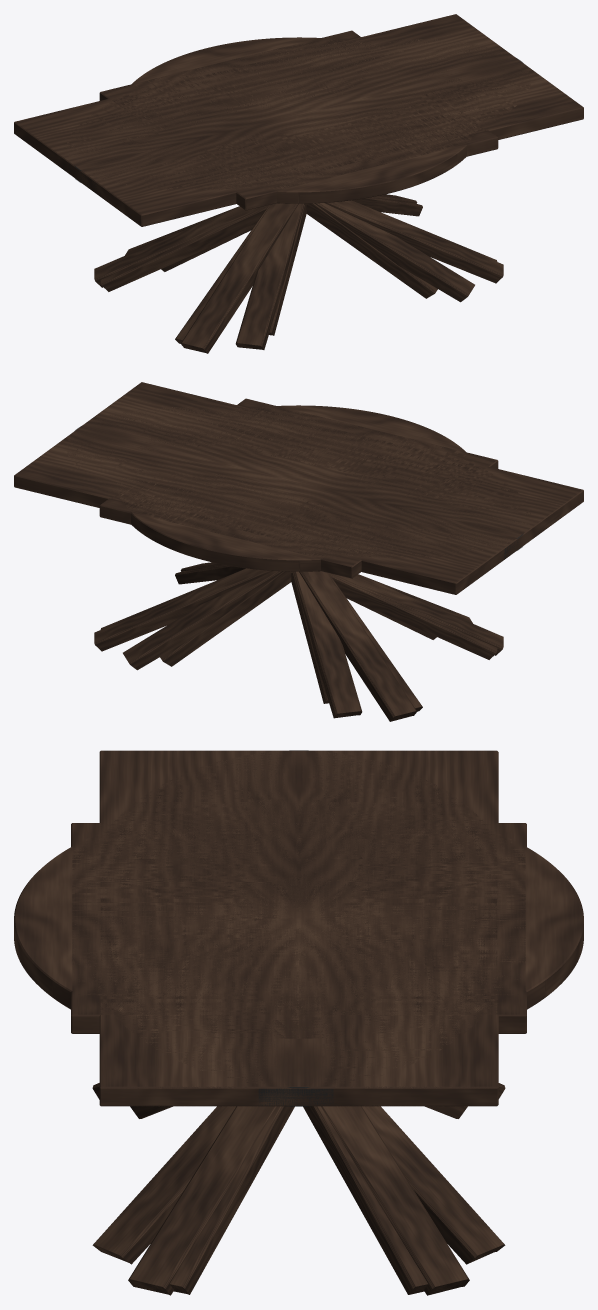
File: walnut-spider-tables.glb
3 renders of one model, top to bottom at view 1: azimuth 30°, elevation 25°; view 2: azimuth 150°, elevation 25°; view 3: azimuth 270°, elevation 25°, orthographic. The views are drawn at different scales.
Visible parts, largest first — view 1: Top_target, Wood_Rectangular_EpoxyFar, Base_Ellipse, Wood_Round, Wood_Round_EpoxyFar, Base_Round, Wood_Ellipse, Wood_Rectangular_EpoxyNear, Wood_Square_EpoxyFar, Wood_Square, Base_target, Wood_Square_EpoxyNear (+4 smaller); view 2: Top_target, Base_Ellipse, Wood_Rectangular_EpoxyNear, Wood_Rectangular_EpoxyFar, Wood_Round, Base_Round, Wood_Round_EpoxyNear, Wood_Ellipse, Wood_Square, Wood_Square_EpoxyNear, Base_target, Wood_Round_EpoxyFar (+4 smaller); view 3: Top_target, Wood_Square, Wood_Round, Wood_Ellipse, Wood_Rectangular_EpoxyNear, Wood_Rectangular_EpoxyFar, Base_Ellipse, Base_Round, Wood_Round_EpoxyNear, Wood_Round_EpoxyFar, Base_target, Wood_Square_EpoxyFar (+4 smaller).
Part boxes in pixels (left/top/right/bottom): Top_target: left=14, top=14, right=583, bottom=226; Wood_Rectangular_EpoxyFar: left=97, top=71, right=583, bottom=226; Base_Ellipse: left=94, top=194, right=503, bottom=353; Wood_Round: left=118, top=37, right=480, bottom=202; Wood_Round_EpoxyFar: left=165, top=85, right=480, bottom=203; Base_Round: left=125, top=203, right=474, bottom=349; Wood_Ellipse: left=66, top=38, right=530, bottom=189; Wood_Rectangular_EpoxyNear: left=14, top=14, right=505, bottom=163; Wood_Square_EpoxyFar: left=194, top=90, right=497, bottom=210; Wood_Square: left=99, top=30, right=498, bottom=210; Base_target: left=100, top=197, right=497, bottom=343; Wood_Square_EpoxyNear: left=99, top=31, right=396, bottom=133; Top_target: left=14, top=382, right=583, bottom=594; Base_Ellipse: left=94, top=562, right=503, bottom=721; Wood_Rectangular_EpoxyNear: left=14, top=438, right=502, bottom=594; Wood_Rectangular_EpoxyFar: left=92, top=382, right=583, bottom=532; Wood_Round: left=117, top=405, right=478, bottom=570; Base_Round: left=123, top=571, right=472, bottom=718; Wood_Round_EpoxyNear: left=118, top=469, right=435, bottom=571; Wood_Ellipse: left=67, top=406, right=529, bottom=557; Wood_Square: left=99, top=398, right=498, bottom=578; Wood_Square_EpoxyNear: left=100, top=474, right=403, bottom=577; Base_target: left=100, top=565, right=497, bottom=711; Wood_Round_EpoxyFar: left=159, top=405, right=481, bottom=502; Top_target: left=99, top=750, right=498, bottom=1106; Wood_Square: left=71, top=823, right=526, bottom=1033; Wood_Round: left=14, top=799, right=583, bottom=1038; Wood_Ellipse: left=72, top=750, right=525, bottom=1086; Wood_Rectangular_EpoxyNear: left=323, top=750, right=498, bottom=1106; Wood_Rectangular_EpoxyFar: left=99, top=750, right=275, bottom=1106; Base_Ellipse: left=128, top=1106, right=469, bottom=1295; Base_Round: left=92, top=1083, right=505, bottom=1264; Wood_Round_EpoxyNear: left=335, top=802, right=583, bottom=1030; Wood_Round_EpoxyFar: left=14, top=802, right=268, bottom=1033; Base_target: left=169, top=1106, right=428, bottom=1294; Wood_Square_EpoxyFar: left=71, top=823, right=276, bottom=1032.
Bounding box in the file's own units: 2.13 × 0.762 × 1.52.
Materials: 17 (8 with a texture image).
